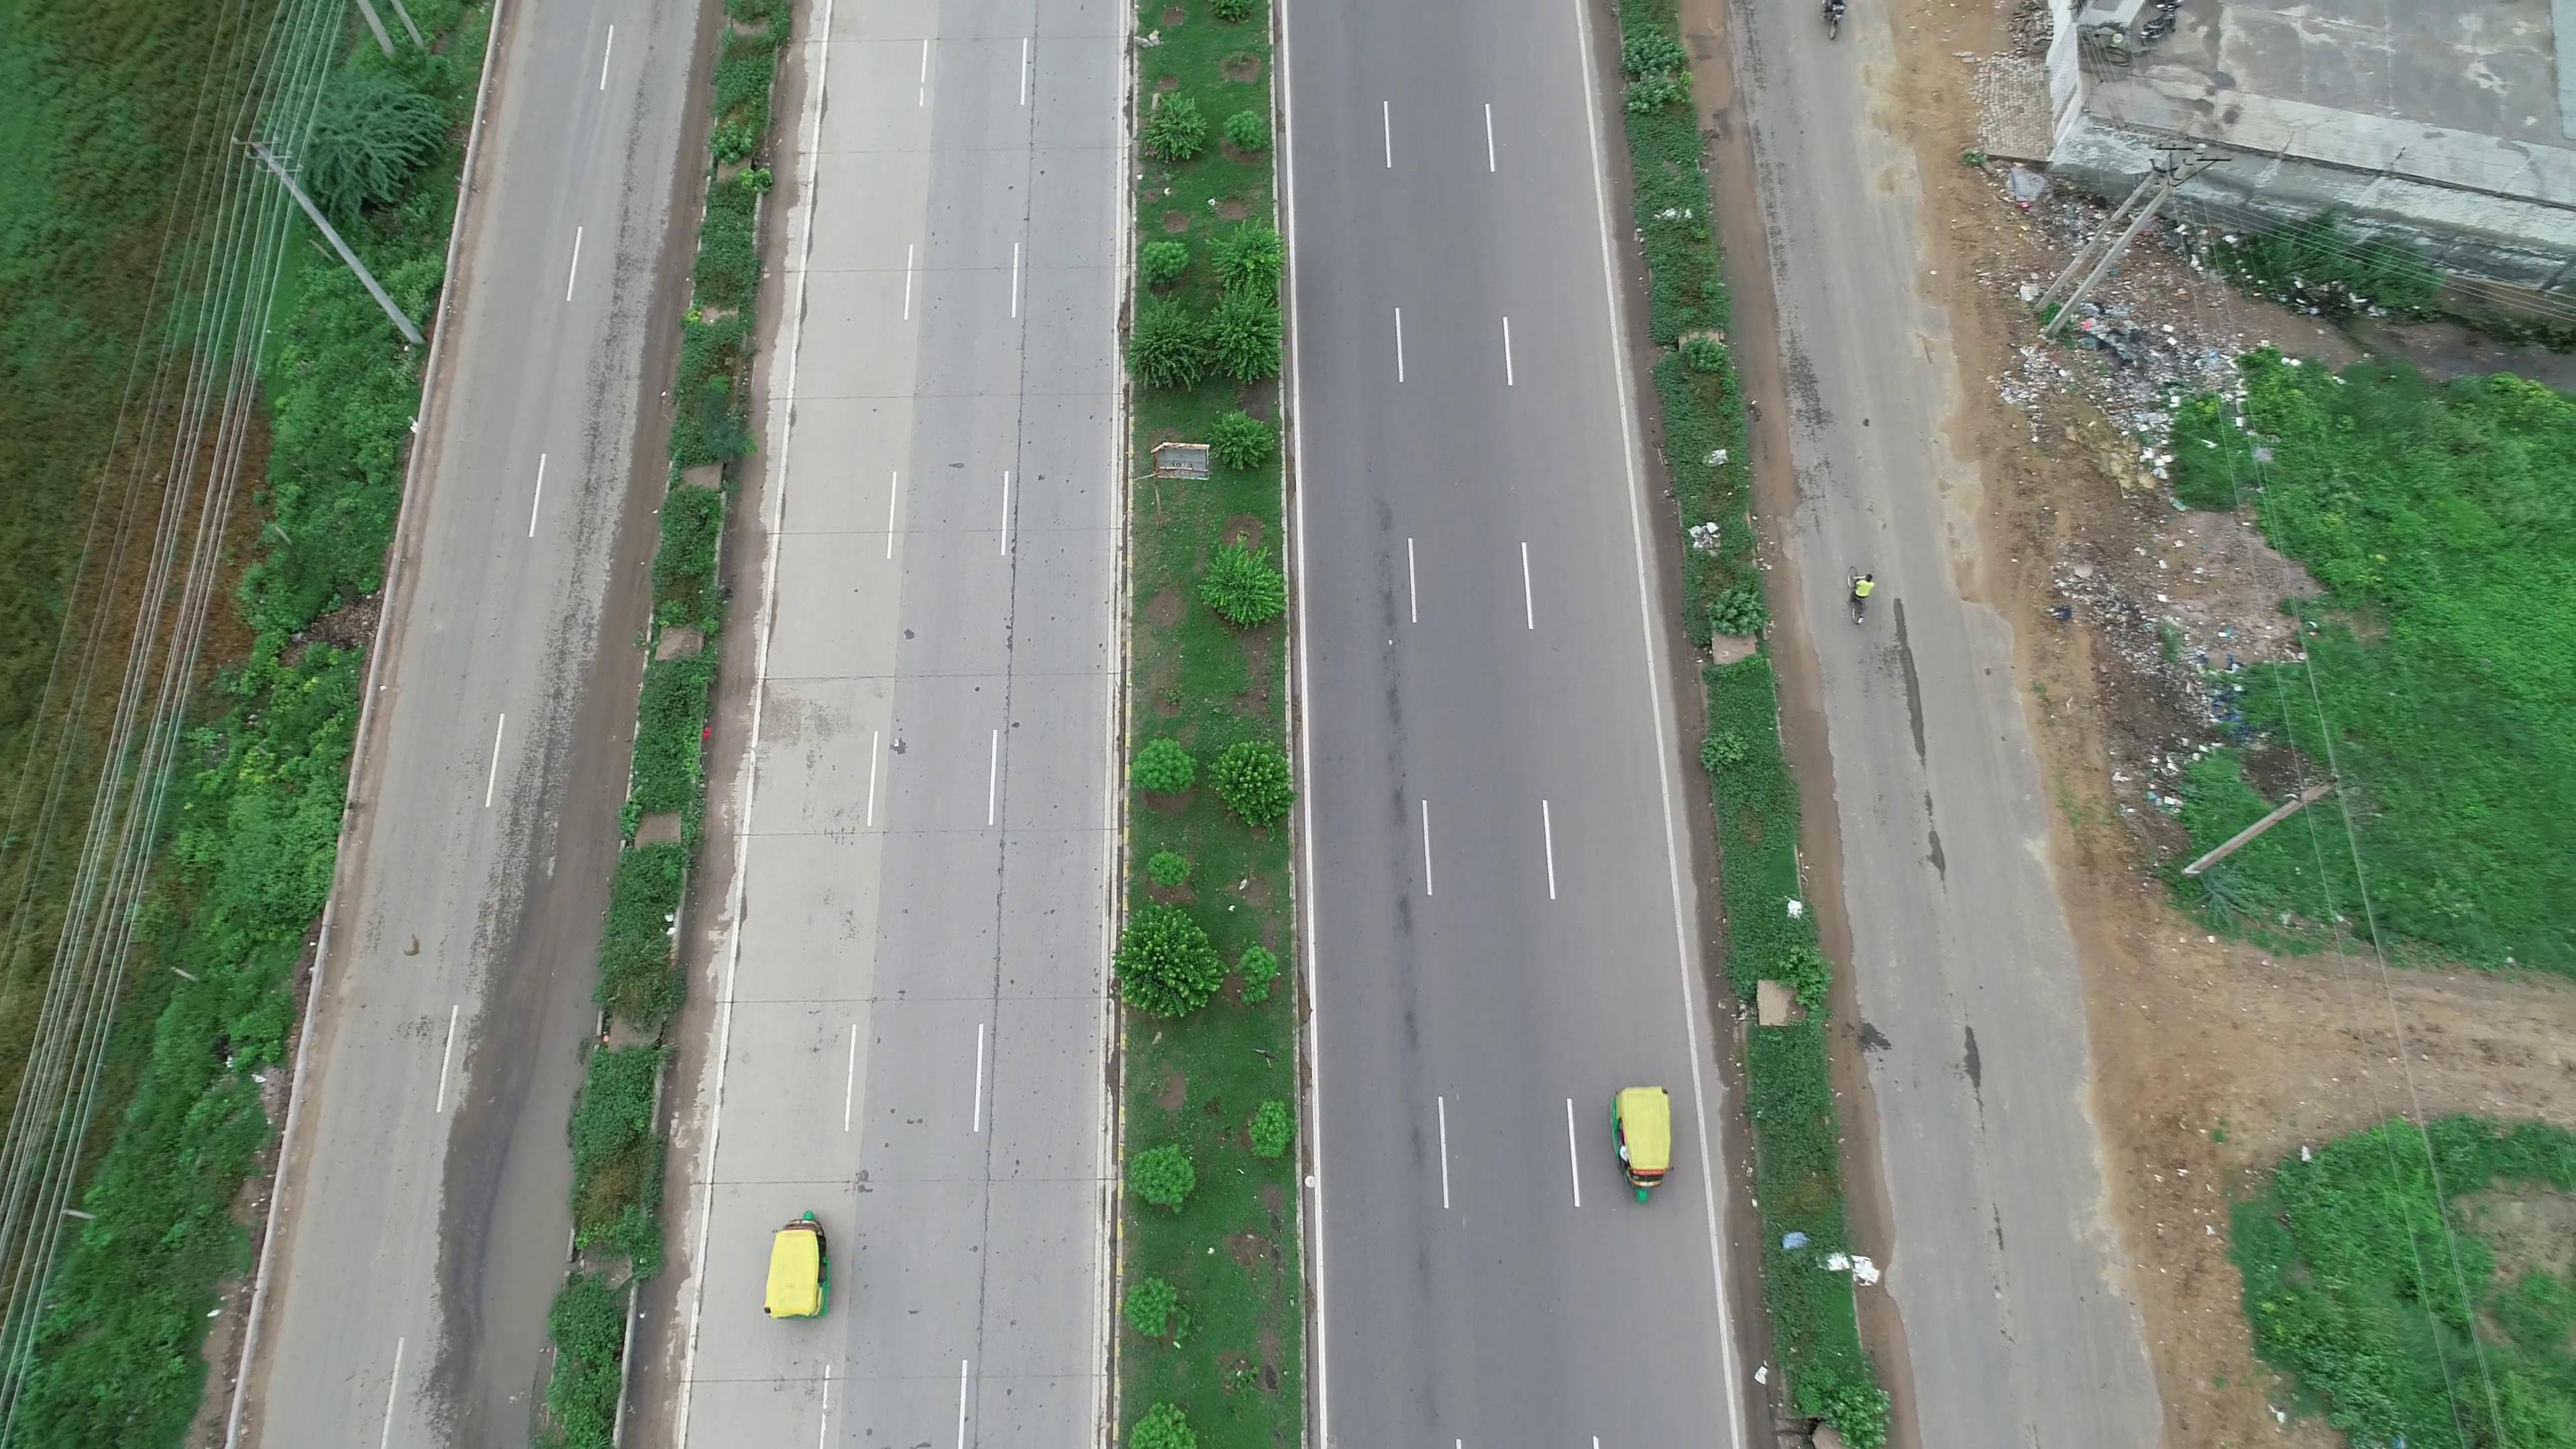Ravelling: (1780, 292, 1838, 502), (1753, 119, 1813, 283)
